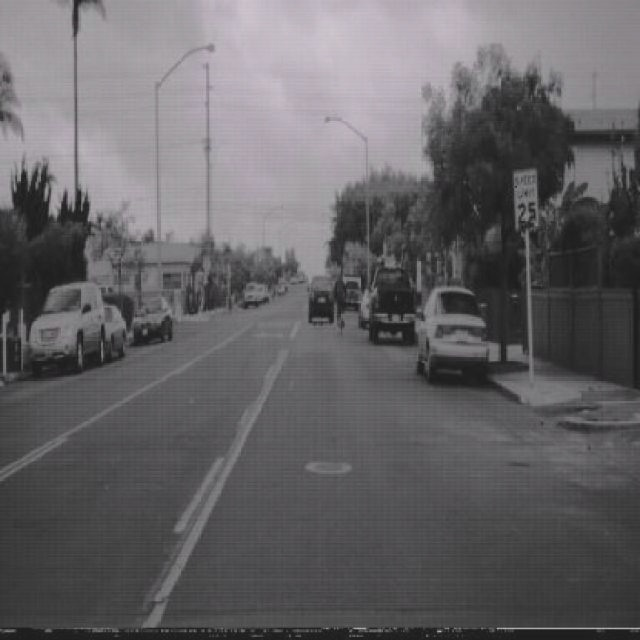speedLimit25: (512, 167, 540, 230)
